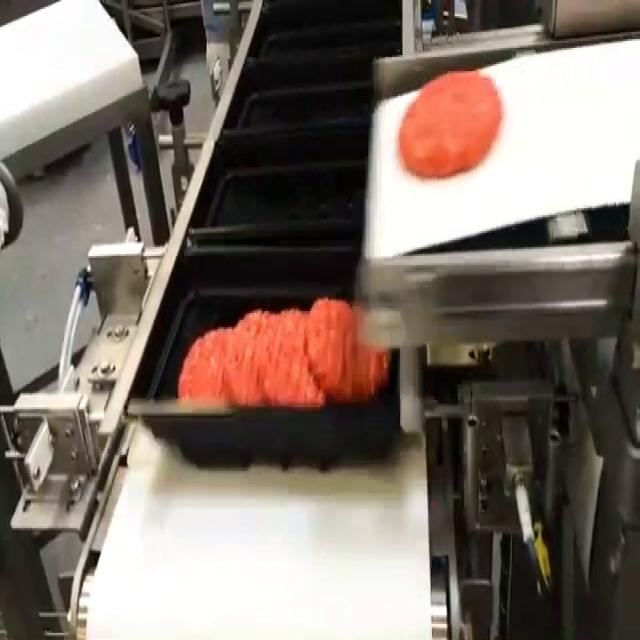4-hamburguer: (180, 299, 389, 405)
